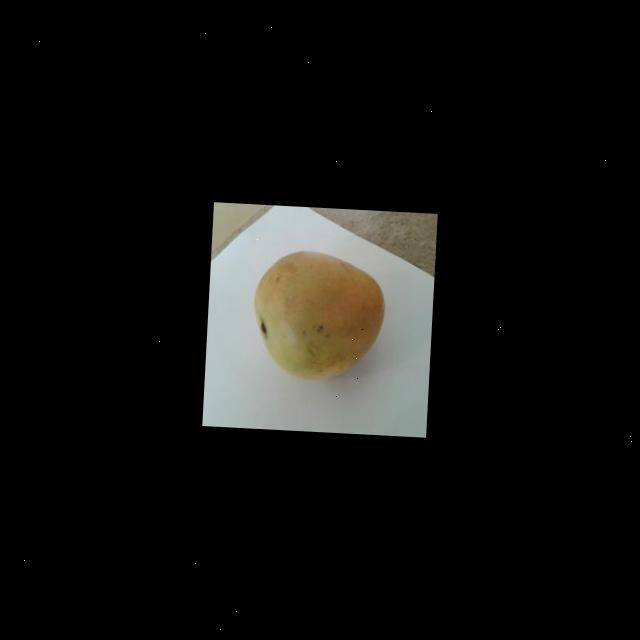Mango: (251, 246, 389, 384)
